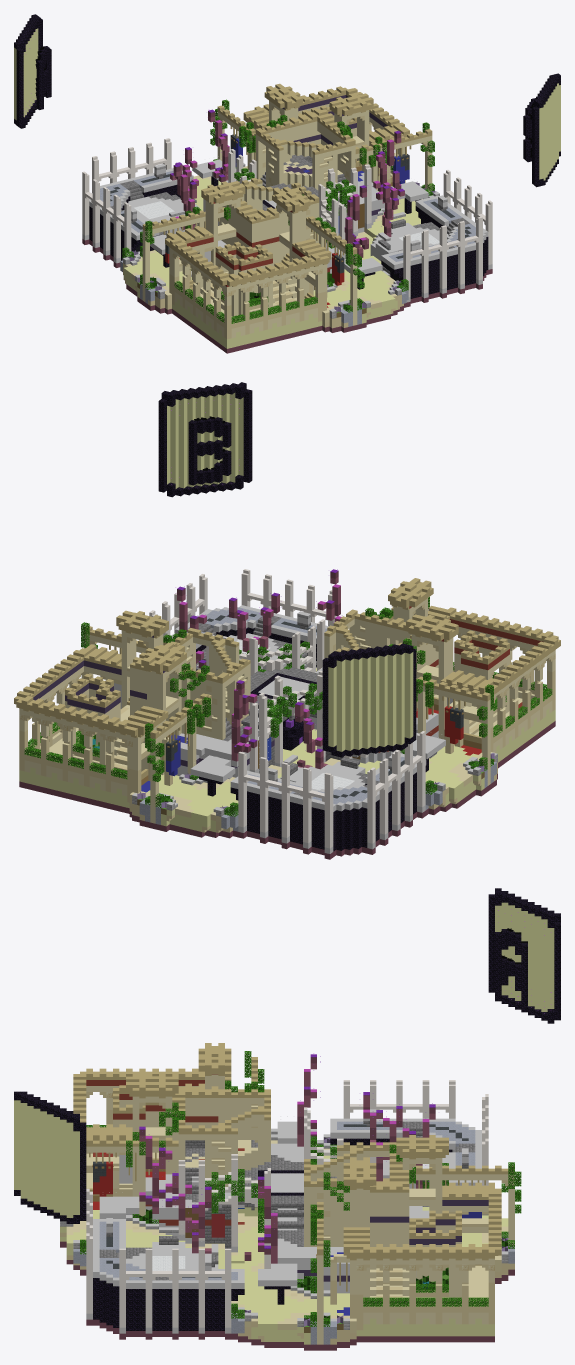
Rendered from minecraft.obj.
The picture shows the model from 3 angles, top to bottom: view 1: azimuth 30°, elevation 25°; view 2: azimuth 150°, elevation 25°; view 3: azimuth 270°, elevation 25°; orthographic projection. The views are drawn at different scales.
Bounding box in the file's own units: 83 × 42 × 83.
